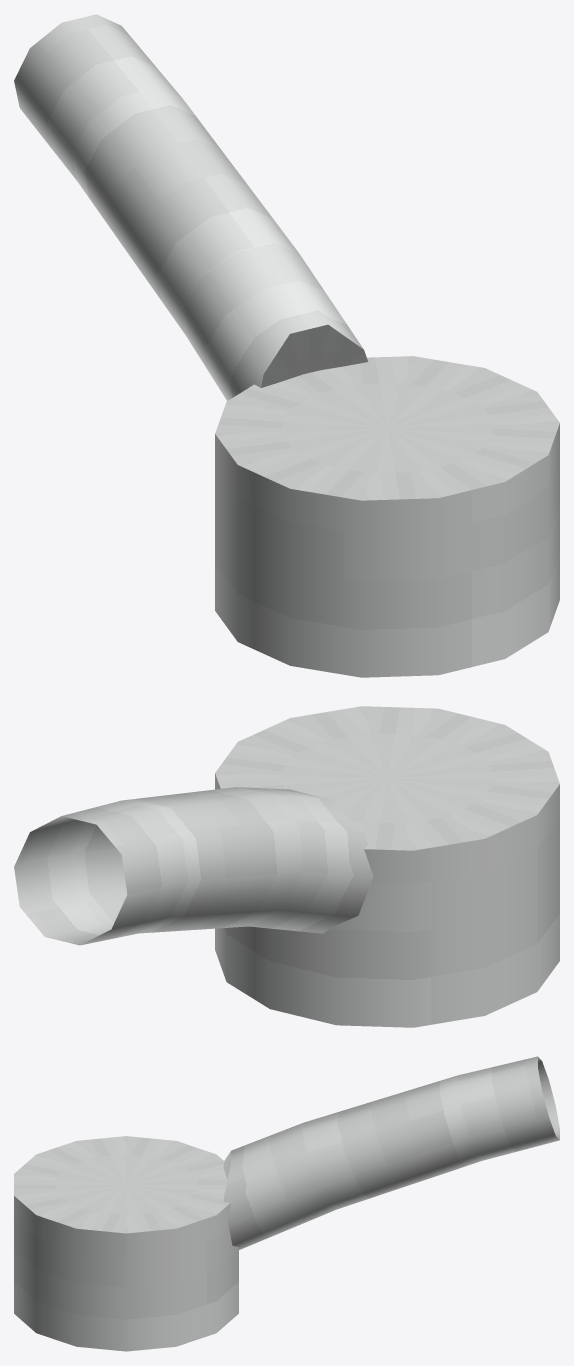
File: nycsignalarm_regular4_c1.obj
3 views of the same model, one above another, from view 1: azimuth 30°, elevation 25°; view 2: azimuth 150°, elevation 25°; view 3: azimuth 270°, elevation 25° (orthographic). The views are drawn at different scales.
Visible parts, largest first — view 1: nycsignalarm_regular4_c1; view 2: nycsignalarm_regular4_c1; view 3: nycsignalarm_regular4_c1.
Boxes of the visible parts, x1=… form: nycsignalarm_regular4_c1: x1=14, y1=14, x2=559, y2=677; nycsignalarm_regular4_c1: x1=14, y1=706, x2=559, y2=1027; nycsignalarm_regular4_c1: x1=14, y1=1056, x2=559, y2=1351.
Bounding box in the file's own units: 0.8188 × 0.9431 × 1.94.
